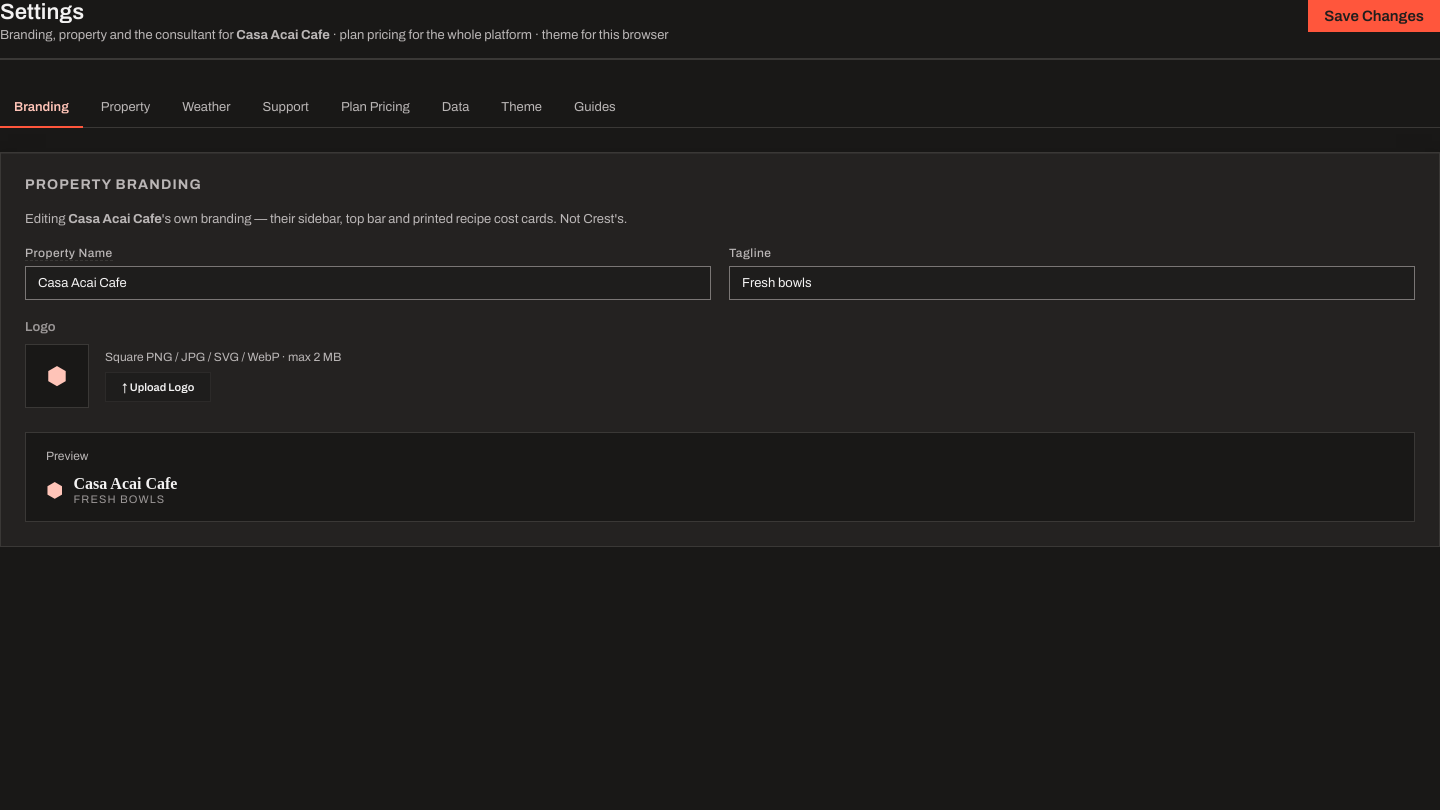
it: S747 — the invoice code is never invented › asks before setting a FIRST code, because bills issued without one reprint with it
This screenshot has width=1440, height=810.
Click the tab "Property" at point(126, 108), box [87,88,164,128]
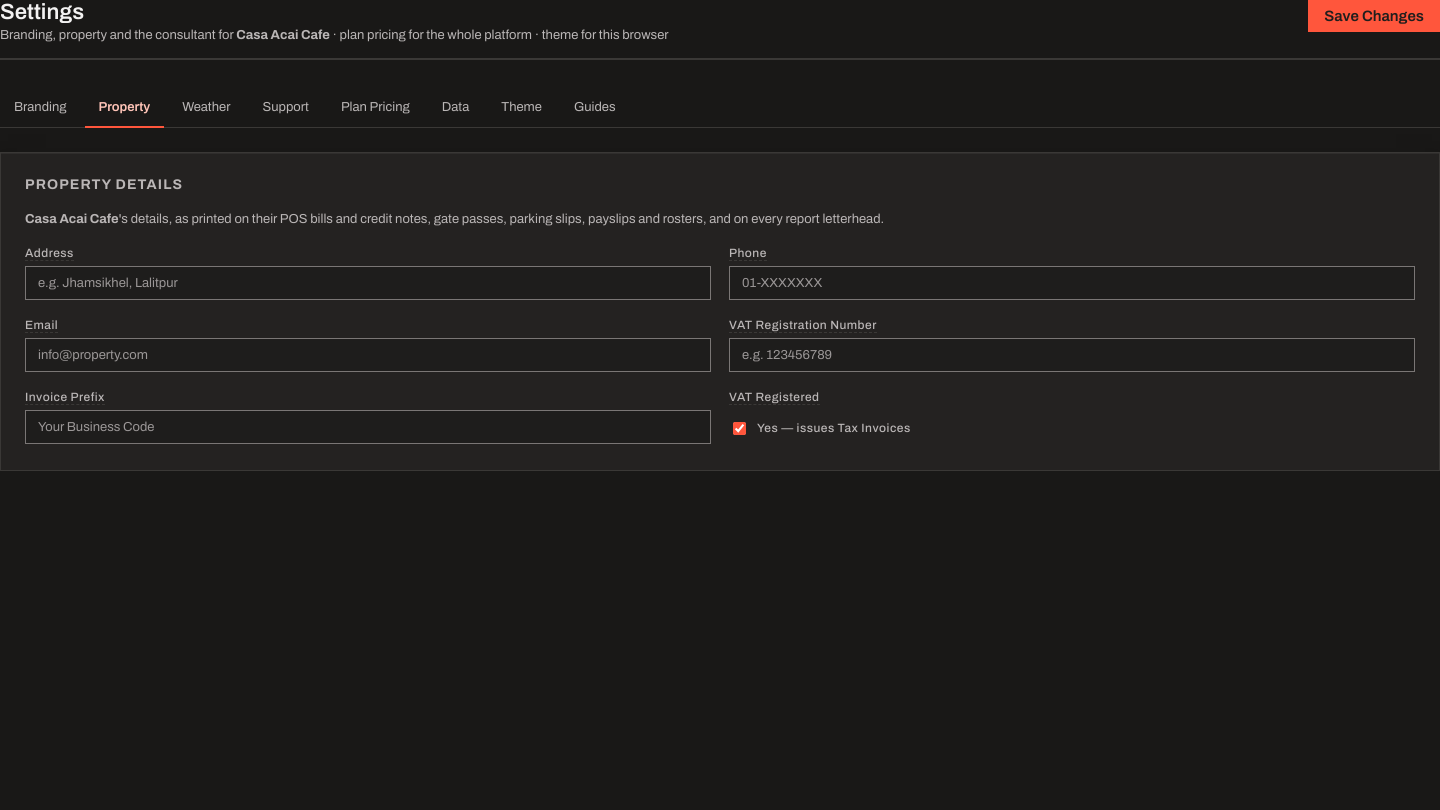
Type "CAC" into the field labelled "Invoice Prefix" at point(368, 427), box [25,410,711,444]
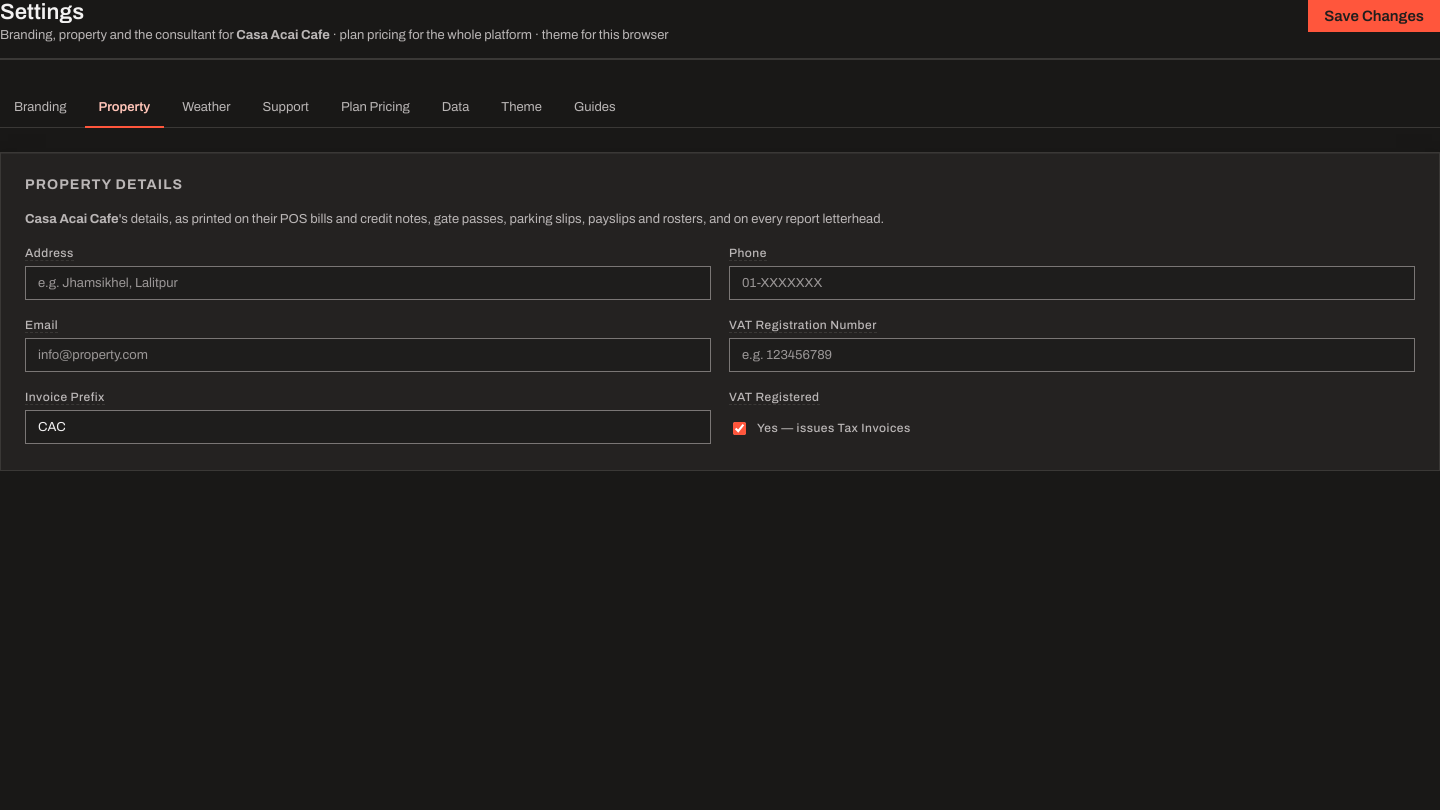
Click the button "Save Changes" at point(1374, 16), box [1308,0,1439,32]
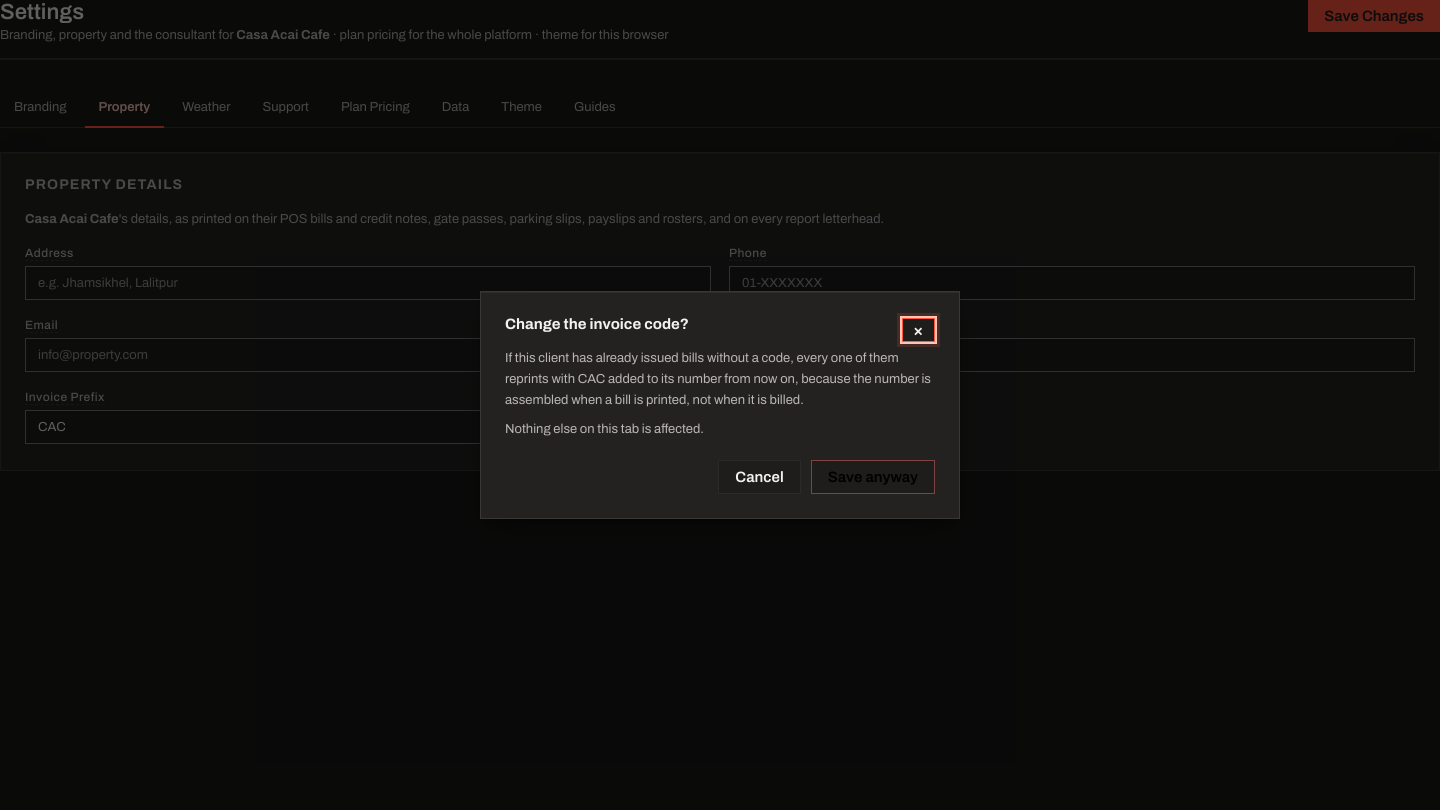
Expected: the text "already issued bills without a code" is shown, [505,351,931,407]
